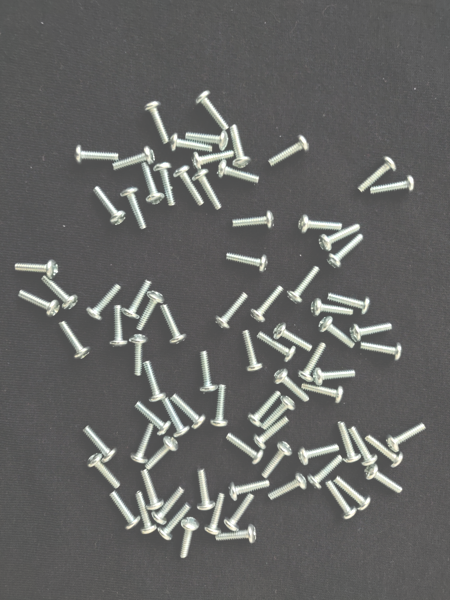shortscrew: (267, 135, 311, 168), (195, 90, 229, 132), (358, 157, 397, 193), (157, 502, 191, 542), (93, 186, 127, 226), (287, 264, 320, 305), (326, 235, 364, 270), (334, 476, 372, 511), (82, 425, 117, 463), (250, 285, 284, 324), (251, 416, 290, 450), (87, 283, 121, 322), (325, 480, 357, 521), (170, 394, 206, 430), (273, 368, 310, 403), (366, 436, 404, 470), (151, 486, 184, 525), (60, 321, 92, 361), (255, 332, 296, 363), (174, 164, 204, 206), (272, 323, 314, 353), (42, 275, 78, 310), (247, 391, 281, 428), (215, 293, 248, 331), (318, 316, 356, 349), (109, 491, 140, 531), (17, 290, 61, 318), (307, 456, 342, 491), (135, 401, 170, 436), (261, 396, 297, 430), (87, 454, 121, 490), (385, 424, 427, 453), (318, 224, 361, 252), (122, 280, 152, 320), (143, 100, 169, 146), (120, 187, 147, 230), (193, 169, 222, 209), (136, 291, 165, 331), (145, 436, 179, 470), (365, 465, 403, 495), (224, 494, 254, 532), (350, 427, 378, 467), (298, 343, 326, 383), (160, 304, 187, 345), (268, 473, 307, 501), (263, 442, 293, 478), (112, 147, 155, 172), (140, 163, 165, 206), (142, 360, 167, 402), (163, 399, 191, 436), (217, 160, 260, 184), (327, 293, 371, 316), (153, 162, 176, 205), (241, 330, 264, 373), (298, 444, 340, 467), (142, 470, 166, 510), (230, 124, 251, 169), (137, 490, 158, 535), (229, 479, 270, 502), (131, 423, 154, 464), (339, 422, 361, 464), (205, 493, 226, 536), (370, 175, 415, 195), (74, 145, 119, 165), (179, 517, 200, 559), (298, 214, 342, 234), (349, 323, 393, 343), (302, 383, 345, 403), (169, 135, 214, 154), (186, 131, 228, 151), (226, 252, 268, 272), (191, 151, 235, 170), (109, 305, 128, 349), (14, 260, 58, 279), (360, 343, 403, 362), (233, 211, 274, 230), (216, 525, 257, 544), (129, 335, 148, 376), (310, 299, 353, 317), (313, 368, 356, 386), (210, 385, 228, 428), (199, 351, 218, 391), (197, 469, 215, 511)
